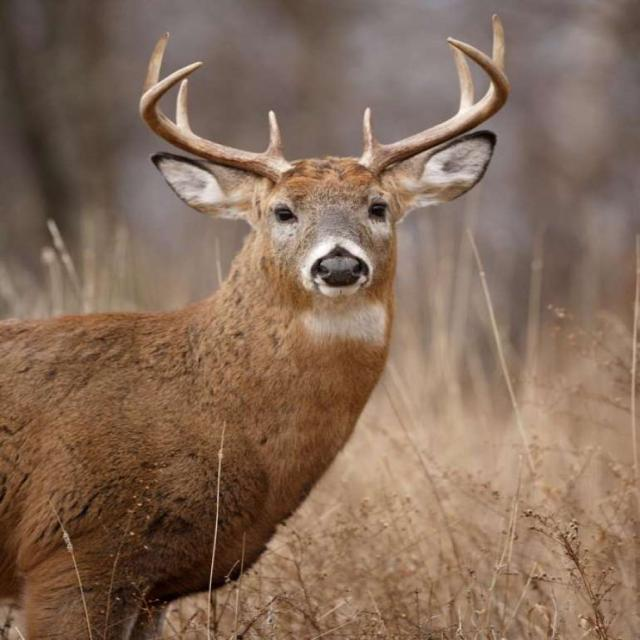L-F: (357, 38, 511, 176)
L-G1: (362, 106, 380, 151)
R-F: (138, 61, 298, 184)
R-G1: (263, 108, 285, 159)
R-G2: (176, 79, 191, 132)
